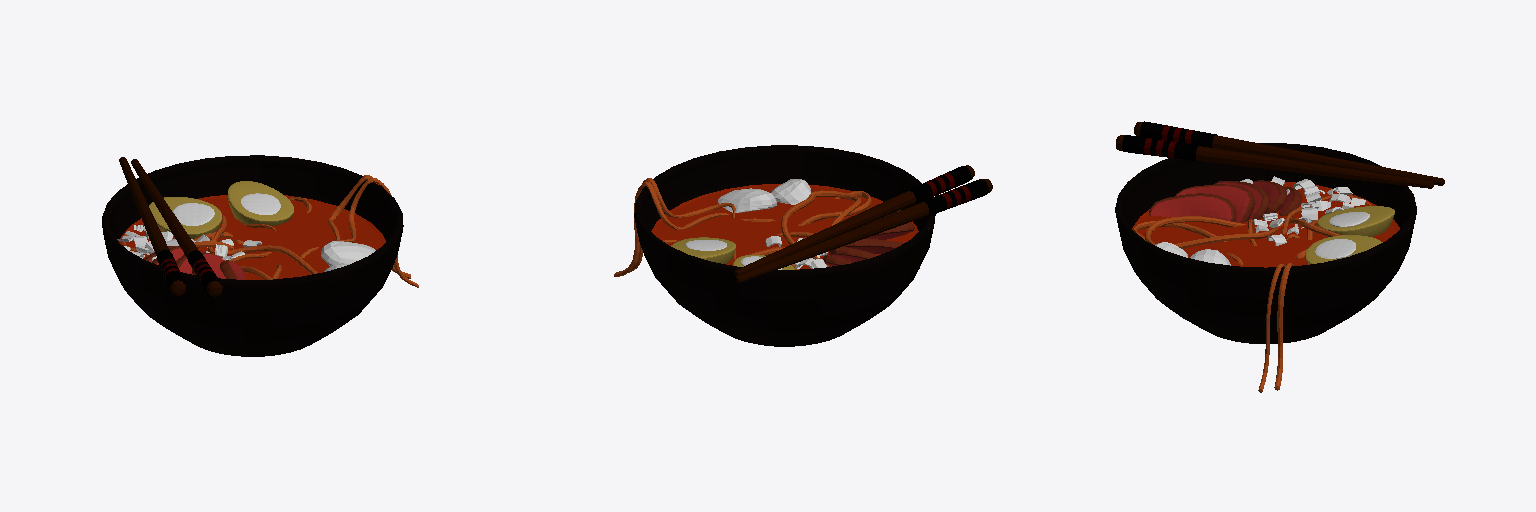
Rendered from ramensketch.obj.
3 views of the same model, side by side, from view 1: azimuth 30°, elevation 25°; view 2: azimuth 150°, elevation 25°; view 3: azimuth 270°, elevation 25° (orthographic).
Visible parts, largest first — view 1: Cylinder, Circle, chopstick_Cylinder.052, chopstick.001_Cylinder.053, Cylinder.001_Cylinder.003, BezierCurve.009_BezierCurve.036, scallion.026_Cylinder.051, Cylinder.002_Cylinder.004, Cube.007_Cube.005, BezierCurve.001_BezierCurve.040, Cube.005_Cube.007, Cube.006 (+1 smaller); view 2: Cylinder, Circle, chopstick.001_Cylinder.053, chopstick_Cylinder.052, BezierCurve.009_BezierCurve.036, Cube.007_Cube.005, BezierCurve.011_BezierCurve.038, Cylinder.001_Cylinder.003, Cube.008, BezierCurve.001_BezierCurve.040, Cube.001; view 3: Cylinder, Circle, chopstick_Cylinder.052, chopstick.001_Cylinder.053, BezierCurve.009_BezierCurve.036, scallion.026_Cylinder.051, Cube.003, Cylinder.002_Cylinder.004, Cube.002, BezierCurve.011_BezierCurve.038, Cylinder.001_Cylinder.003, BezierCurve.001_BezierCurve.040 (+3 smaller).
Part boxes in pixels (x1,y1,x2,y2): Cylinder: (102, 155, 403, 356); Circle: (119, 195, 385, 279); chopstick_Cylinder.052: (131, 159, 222, 296); chopstick.001_Cylinder.053: (119, 157, 185, 295); Cylinder.001_Cylinder.003: (228, 181, 293, 225); BezierCurve.009_BezierCurve.036: (123, 197, 318, 279); scallion.026_Cylinder.051: (117, 225, 261, 260); Cylinder.002_Cylinder.004: (149, 197, 221, 238); Cube.007_Cube.005: (321, 241, 375, 265); BezierCurve.001_BezierCurve.040: (229, 178, 418, 287); Cube.005_Cube.007: (173, 203, 214, 225); Cube.006: (241, 193, 280, 214); Cylinder: (634, 145, 935, 346); Circle: (651, 184, 918, 269); chopstick.001_Cylinder.053: (736, 179, 992, 282); chopstick_Cylinder.052: (734, 165, 974, 275); BezierCurve.009_BezierCurve.036: (663, 190, 871, 269); Cube.007_Cube.005: (718, 188, 776, 212); BezierCurve.011_BezierCurve.038: (614, 181, 828, 276); Cylinder.001_Cylinder.003: (671, 237, 735, 263); Cube.008: (771, 179, 810, 204); BezierCurve.001_BezierCurve.040: (629, 178, 812, 272); Cube.001: (842, 239, 903, 253); Cylinder: (1115, 143, 1416, 343); Circle: (1132, 181, 1399, 267); chopstick_Cylinder.052: (1116, 135, 1433, 188); chopstick.001_Cylinder.053: (1134, 121, 1444, 185); BezierCurve.009_BezierCurve.036: (1133, 196, 1371, 265); scallion.026_Cylinder.051: (1240, 176, 1365, 245); Cube.003: (1149, 193, 1235, 221); Cylinder.002_Cylinder.004: (1318, 206, 1394, 236); Cube.002: (1176, 184, 1254, 222); BezierCurve.011_BezierCurve.038: (1274, 207, 1303, 390); Cylinder.001_Cylinder.003: (1305, 235, 1382, 264); BezierCurve.001_BezierCurve.040: (1248, 219, 1284, 392).
Bounding box in the file's own units: 2.36 × 0.9159 × 2.19.